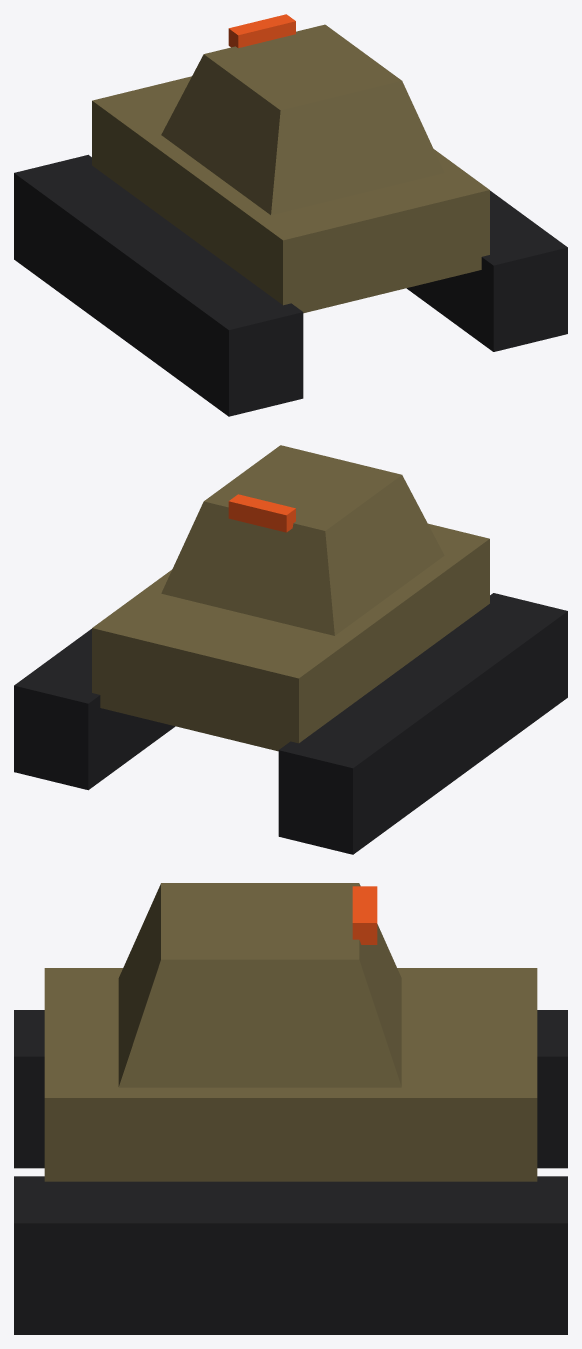
The model's file is enemy_artillery.obj.
3 views of the same model, one above another, from view 1: azimuth 30°, elevation 25°; view 2: azimuth 150°, elevation 25°; view 3: azimuth 270°, elevation 25° (orthographic). The views are drawn at different scales.
Parts seen in each view (by area): view 1: hull, track, lamp; view 2: hull, track, lamp; view 3: hull, track, lamp.
Part boxes in pixels (box(x1,y1,x2,y2)): hull: box(92, 24, 489, 313); track: box(14, 154, 567, 416); lamp: box(228, 14, 295, 48); hull: box(92, 445, 489, 751); track: box(14, 593, 567, 854); lamp: box(228, 494, 295, 532); hull: box(44, 883, 537, 1181); track: box(14, 1010, 567, 1334); lamp: box(352, 886, 377, 944).
Size of the model in its own units: 0.82 by 0.58 by 0.9.
